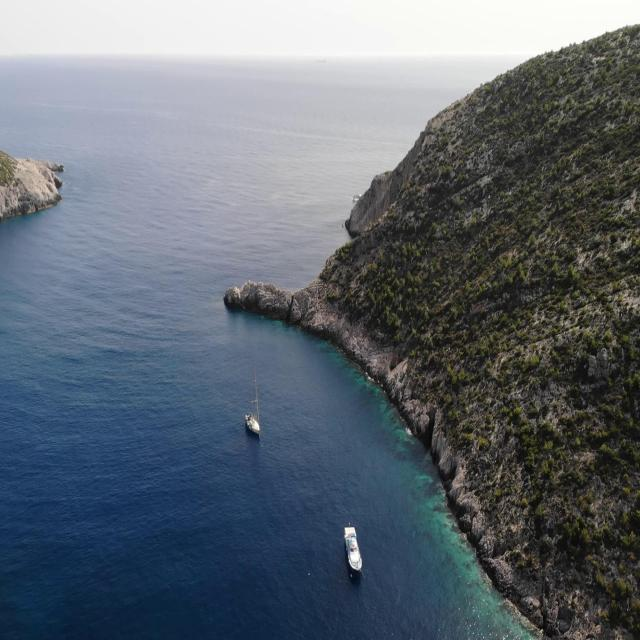boat: (342, 525, 362, 572)
sailboat: (244, 366, 262, 439)
